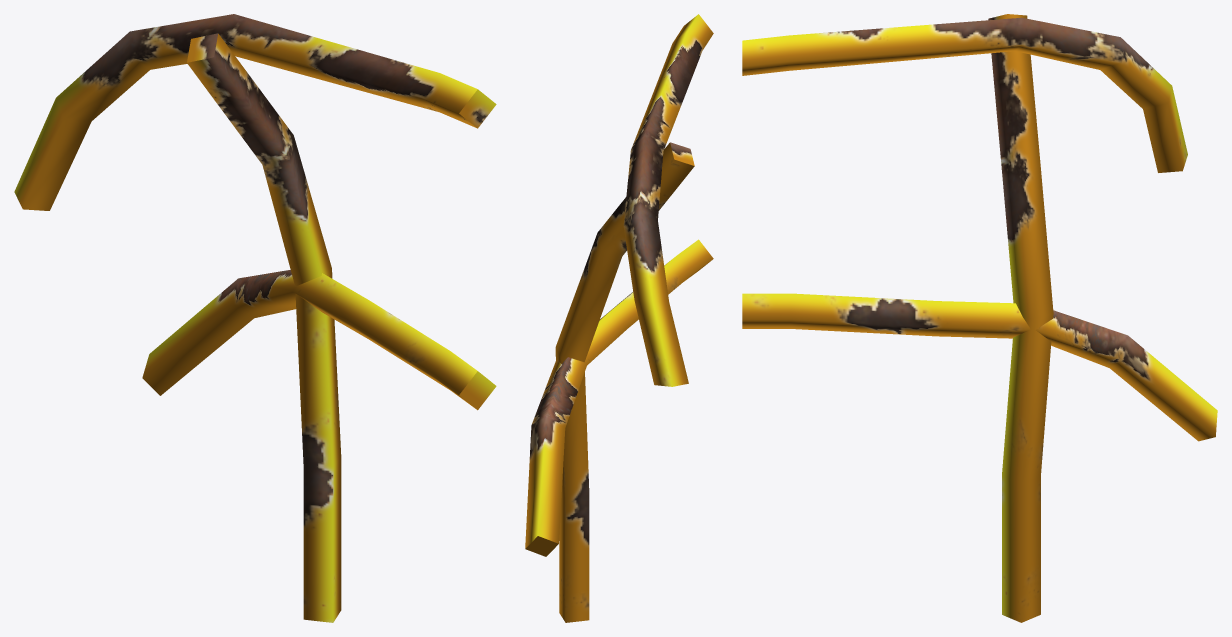
The model's file is safetyRail_1m_B.fbx.
3 renders of one model, left to right at view 1: azimuth 30°, elevation 25°; view 2: azimuth 150°, elevation 25°; view 3: azimuth 270°, elevation 25°, orthographic. The views are drawn at different scales.
Parts seen in each view (by area): view 1: safetyRail_1m_B; view 2: safetyRail_1m_B; view 3: safetyRail_1m_B.
Boxes of the visible parts, x1,y1,x2,y2 form: safetyRail_1m_B: (14,14,496,622); safetyRail_1m_B: (525,14,713,622); safetyRail_1m_B: (742,14,1217,622).
Bounding box in the file's own units: 44.61 × 113 × 85.16.
